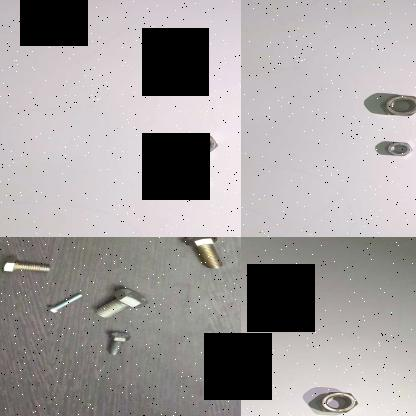Bolts: (86, 286, 151, 320), (177, 237, 227, 272), (1, 254, 52, 276), (98, 329, 136, 357), (45, 292, 89, 312)
NUTS: (174, 132, 224, 158), (310, 390, 360, 414), (380, 92, 416, 120), (173, 178, 215, 198), (381, 140, 415, 157)
